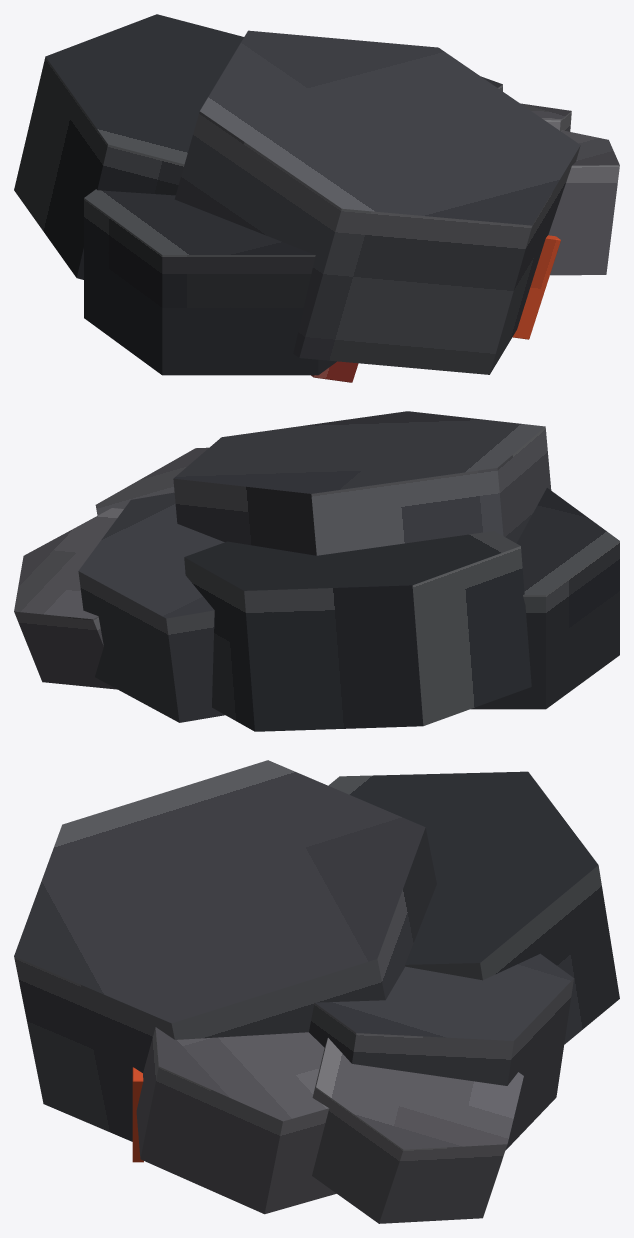
Rendered from basalt_rubble.glb.
3 views of the same model, one above another, from view 1: azimuth 30°, elevation 25°; view 2: azimuth 150°, elevation 25°; view 3: azimuth 270°, elevation 25° (orthographic). The views are drawn at different scales.
Visible parts, largest first — view 1: Rubble_2, Rubble_1, Rubble_4, Rubble_3, RubbleGlow_2, Rubble_6, RubbleGlow_1; view 2: Rubble_4, Rubble_2, Rubble_5, Rubble_1, Rubble_6, Rubble_3; view 3: Rubble_2, Rubble_4, Rubble_3, Rubble_6, Rubble_5, RubbleGlow_2.
Boxes of the visible parts, left/top/right/bottom form: Rubble_2: left=174, top=30, right=580, bottom=374; Rubble_1: left=84, top=189, right=336, bottom=375; Rubble_4: left=14, top=14, right=243, bottom=279; Rubble_3: left=548, top=130, right=619, bottom=275; RubbleGlow_2: left=513, top=235, right=560, bottom=339; Rubble_6: left=520, top=103, right=571, bottom=131; RubbleGlow_1: left=311, top=361, right=358, bottom=382; Rubble_4: left=184, top=531, right=531, bottom=731; Rubble_2: left=173, top=411, right=551, bottom=555; Rubble_5: left=78, top=492, right=224, bottom=722; Rubble_1: left=471, top=488, right=619, bottom=709; Rubble_6: left=14, top=508, right=123, bottom=689; Rubble_3: left=95, top=447, right=208, bottom=515; Rubble_2: left=14, top=760, right=436, bottom=1141; Rubble_4: left=328, top=771, right=619, bottom=1044; Rubble_3: left=136, top=1027, right=336, bottom=1214; Rubble_6: left=312, top=1038, right=523, bottom=1223; Rubble_5: left=309, top=953, right=573, bottom=1150; RubbleGlow_2: left=132, top=1067, right=143, bottom=1162.
Size of the model in its own units: 0.9973 by 0.4539 by 0.9448.
1 material, 1 textured.
